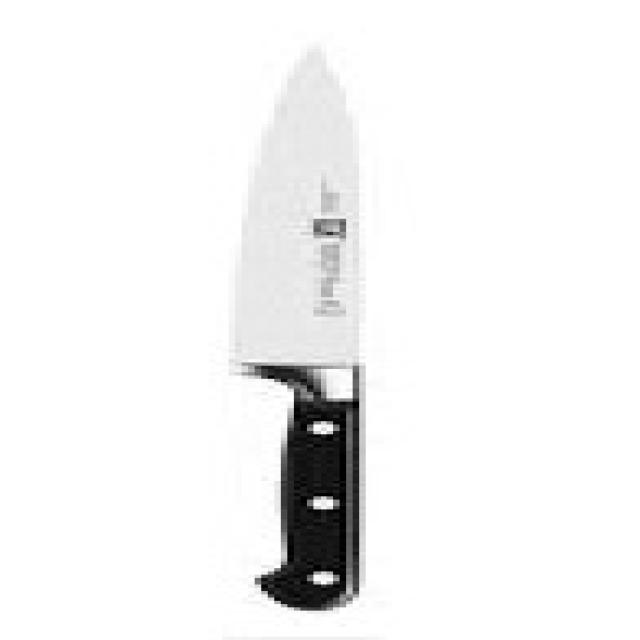knife: (231, 48, 442, 611)
